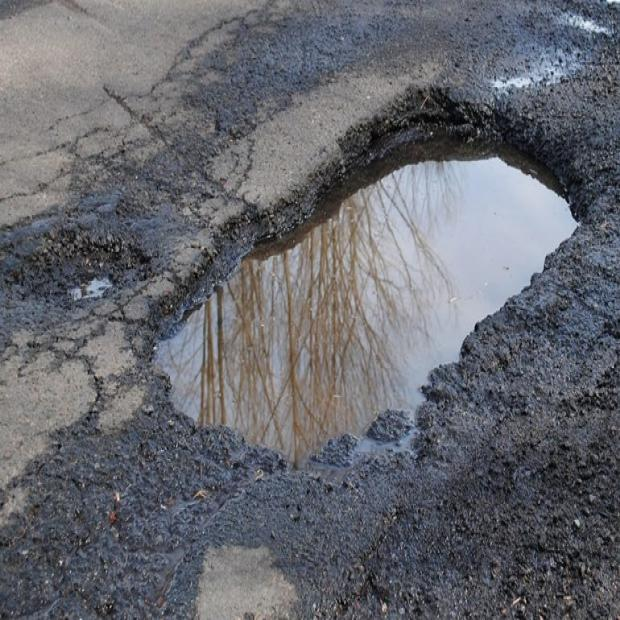lubang: (150, 89, 588, 467), (0, 216, 152, 315)
